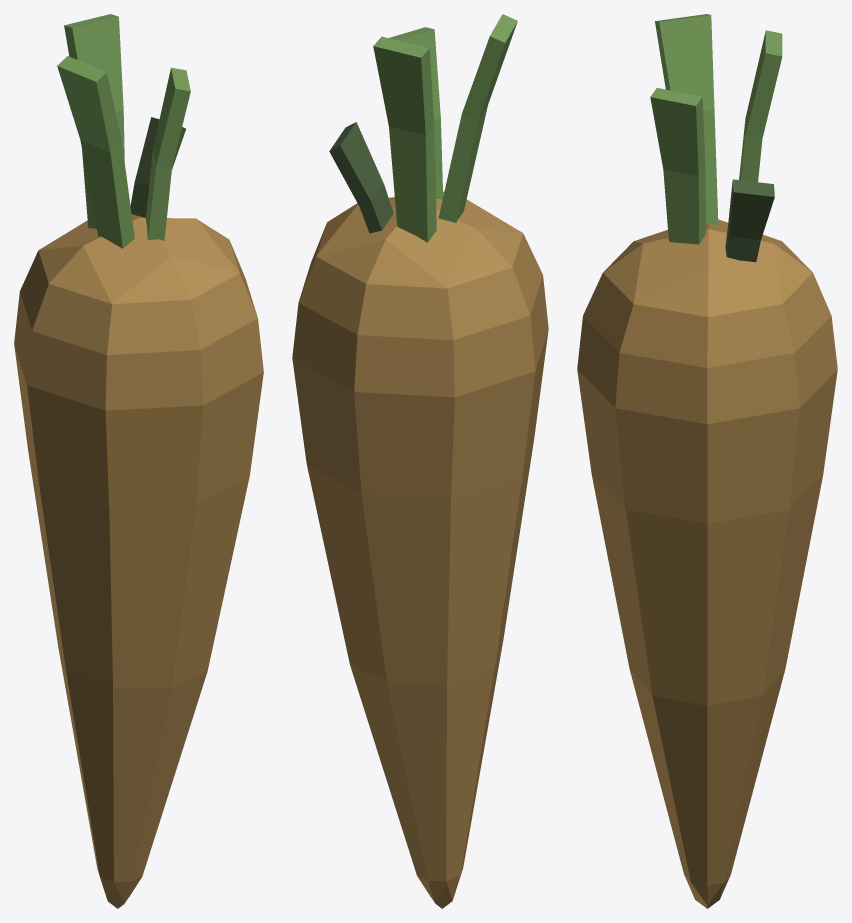
The model's file is Carrot_Crop.glb.
3 views of the same model, side by side, from view 1: azimuth 30°, elevation 25°; view 2: azimuth 150°, elevation 25°; view 3: azimuth 270°, elevation 25° (orthographic). The views are drawn at different scales.
Parts seen in each view (by area): view 1: LightOrange, Green, DarkGreen2; view 2: LightOrange, Green, DarkGreen2; view 3: LightOrange, Green, DarkGreen2.
Boxes of the visible parts, x1,y1,x2,y2 form: LightOrange: [14, 214, 263, 908]; Green: [57, 14, 190, 248]; DarkGreen2: [130, 117, 185, 217]; LightOrange: [292, 191, 548, 908]; Green: [373, 14, 517, 242]; DarkGreen2: [329, 122, 393, 233]; LightOrange: [577, 219, 837, 908]; Green: [650, 14, 782, 244]; DarkGreen2: [725, 179, 774, 262].
Bounding box in the file's own units: 0.239 × 0.8809 × 0.239.
